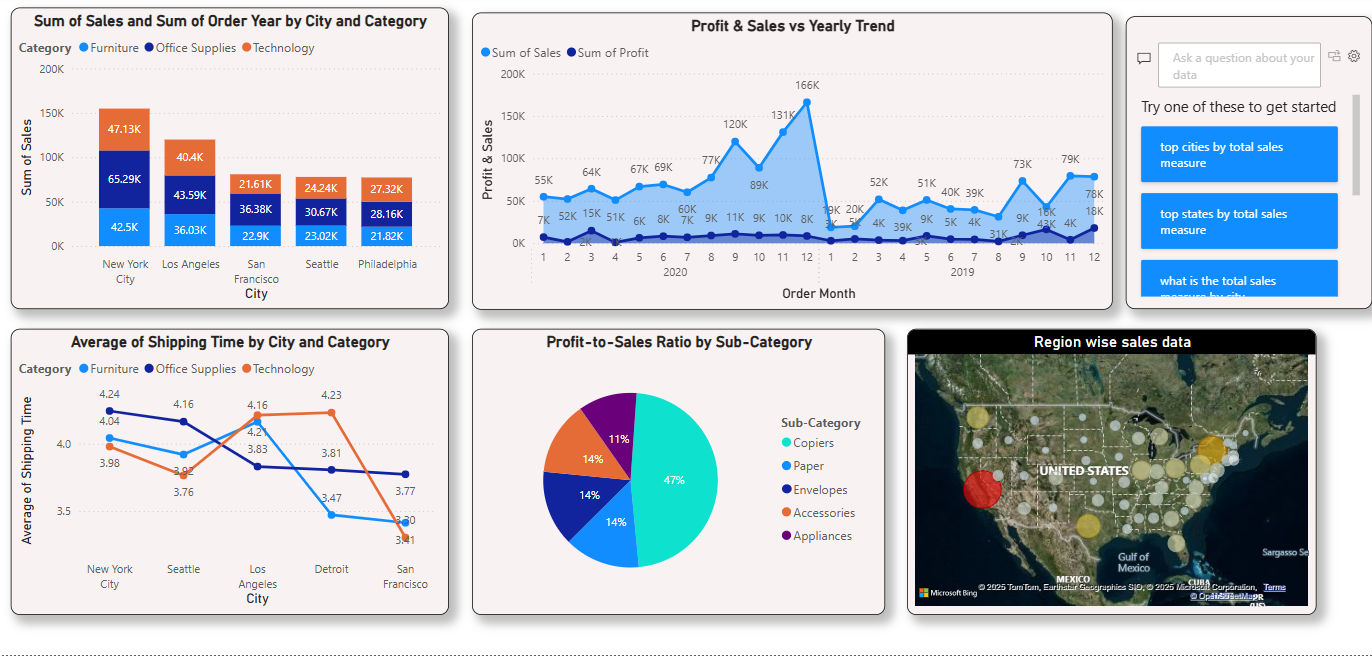

Layout of this report page (visuals, bound fields, positions):
{"tool":"powerbi","page":{"name":"Project","canvas":[1500,720],"ordinal":0},"visuals":[{"type":"columnChart","fields":{"Category":["Sheet1.City"],"Y":["Sum(Sheet1.Sales)"],"Series":["Sheet1.Category"]},"box":[14.7,13.5,477.3,328.8],"z":0},{"type":"lineChart","fields":{"Category":["Sheet1.City"],"Series":["Sheet1.Category"],"Y":["Avg(Sheet1.Shipping Time)"]},"box":[14.7,364.4,477.3,311.7],"z":1000},{"type":"pieChart","fields":{"Y":["Sheet1.Profit-to-Sales Ratio"],"Category":["Sheet1.Sub-Category"]},"box":[517.8,364.4,450.3,311.7],"z":2000},{"type":"map","title":"Region wise sales data","fields":{"Category":["Sheet1.State"],"Size":["Sum(Sheet1.Sales)"],"X":["Sum(Sheet1.Sales)"]},"box":[992.6,364.4,446.6,311.7],"z":3000},{"type":"lineChart","title":"Profit & Sales vs Yearly Trend","fields":{"Category":["Sheet1.Order Year","Sheet1.Order Month"],"Y":["Sum(Sheet1.Sales)","Sum(Sheet1.Profit)"]},"box":[517.8,18.4,698.2,323.9],"z":4000},{"type":"qnaVisual","box":[1230.7,23.3,268.7,319],"z":5000}]}

Visuals, with their boxes in screenshot pixels (x1, y1, x2, y2), scaled from the page's 1500x720 canvas onto the 1372x656 screenshot:
columnChart - Sheet1.City x Sum(Sheet1.Sales): l=13, t=12, r=450, b=312
lineChart - Sheet1.City x Sheet1.Category: l=13, t=332, r=450, b=616
pieChart - Sheet1.Profit-to-Sales Ratio x Sheet1.Sub-Category: l=474, t=332, r=885, b=616
"Region wise sales data" map: l=908, t=332, r=1316, b=616
"Profit & Sales vs Yearly Trend" lineChart: l=474, t=17, r=1112, b=312
qnaVisual: l=1126, t=21, r=1371, b=312
